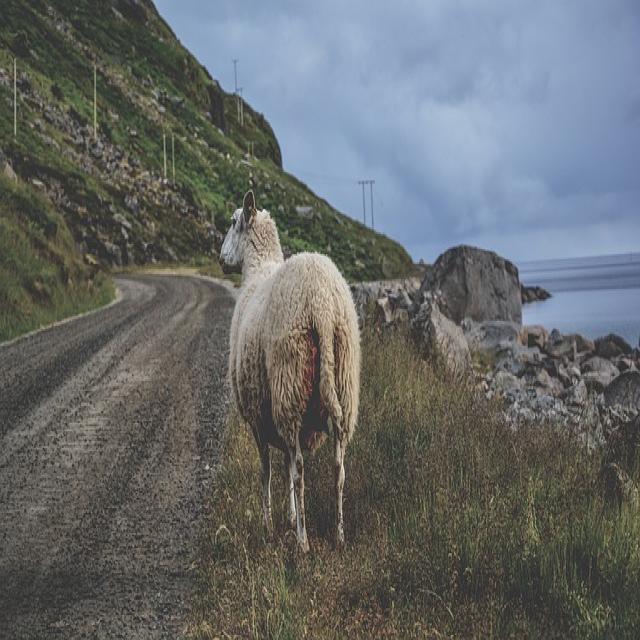goat: (220, 190, 359, 550)
